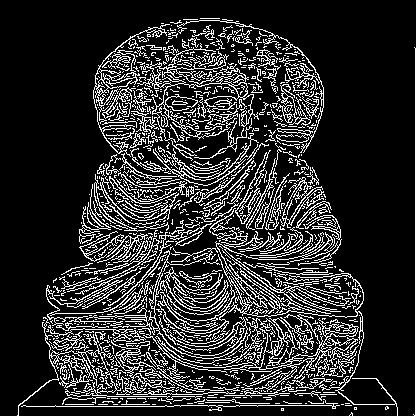buddha-sitting: (202, 206, 318, 376)
